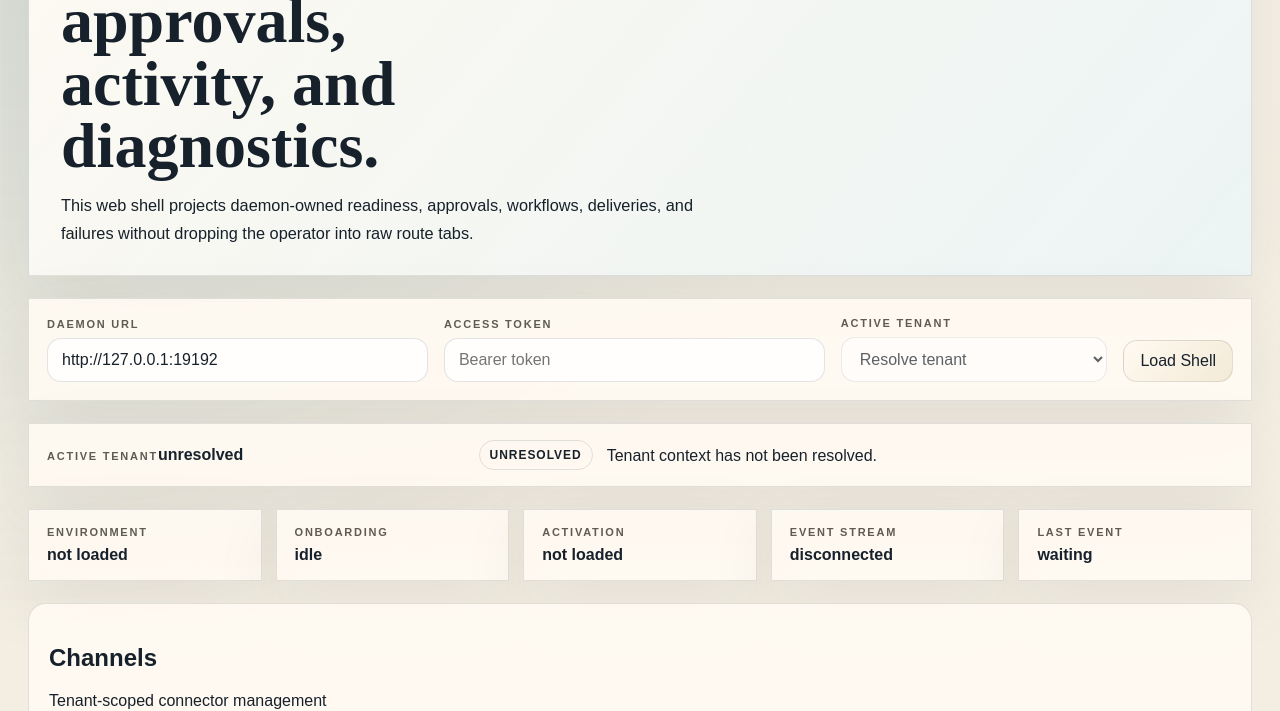
Scenario: App › creates, reviews, and suppresses product fixtures from discovered candidates
(page scrolled)
In the password field labelled "Access Token": (634, 360) [444,338,825,382], type "token"
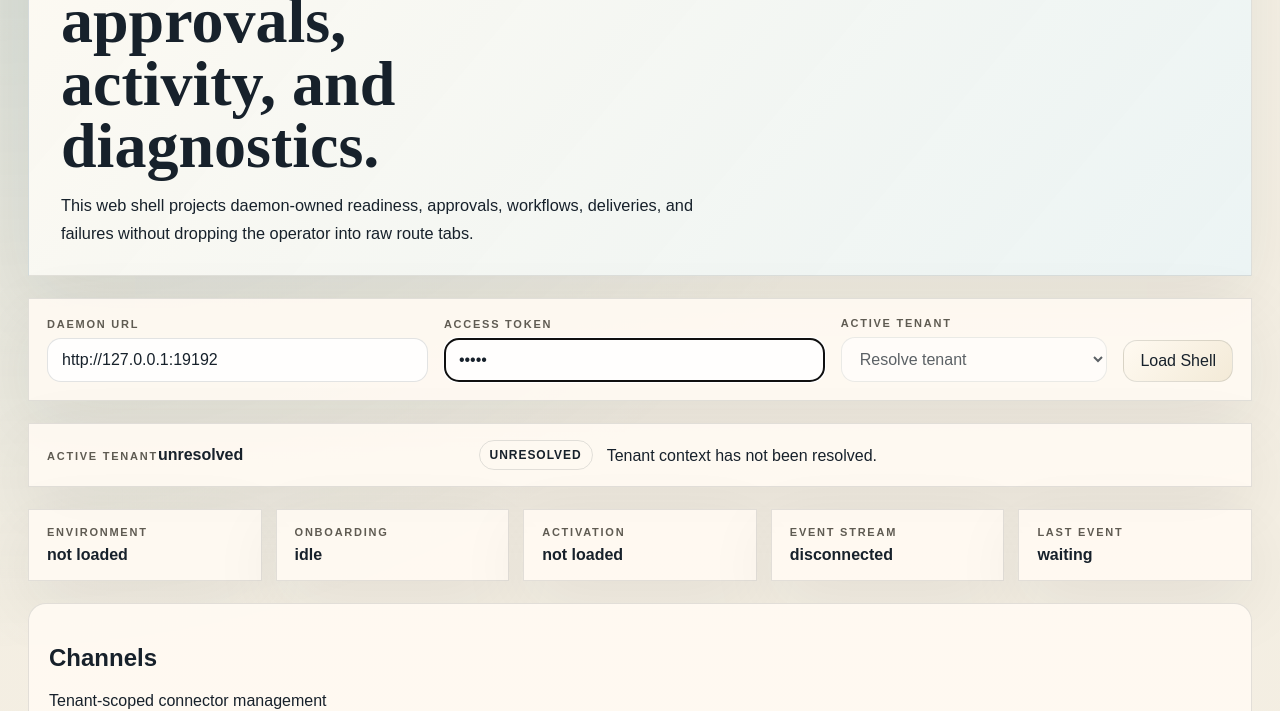
Click the button "Load Shell": (1178, 362) [1123,340,1233,382]
(page scrolled)
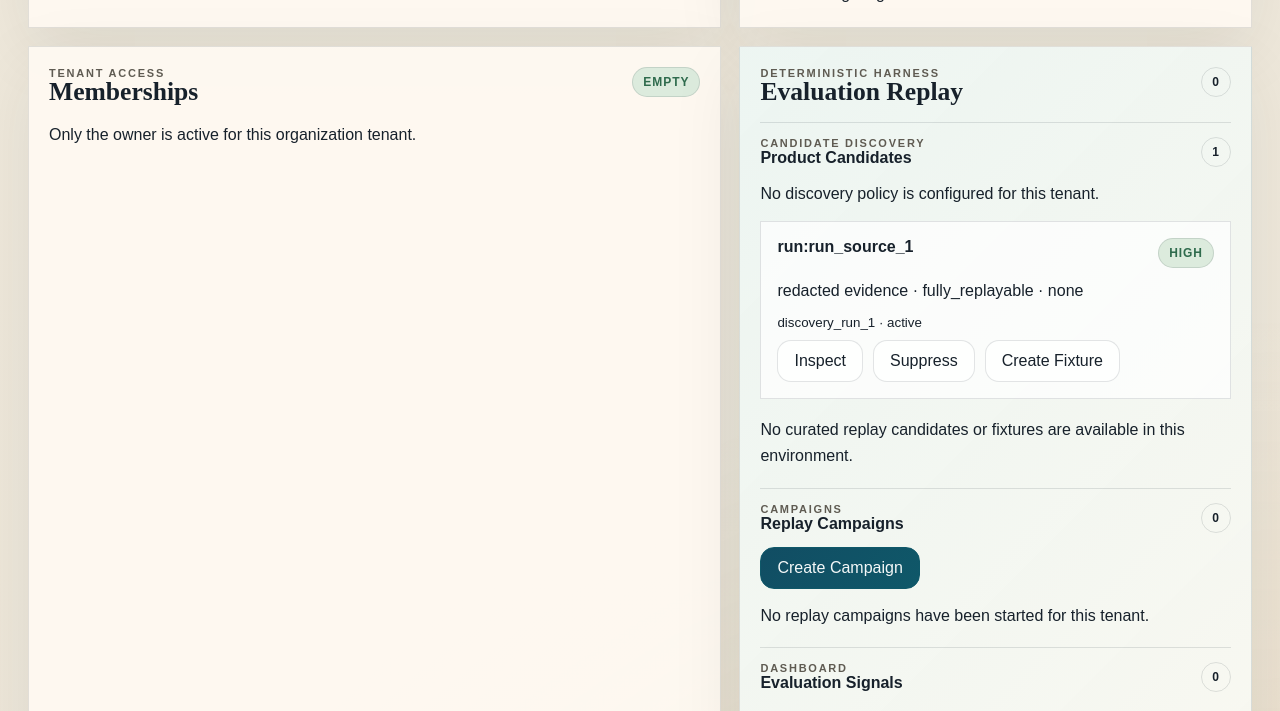
Expected: the button "Create Fixture" is shown
Click the button "Create Fixture": (1052, 361) [985,340,1120,382]
(page scrolled)
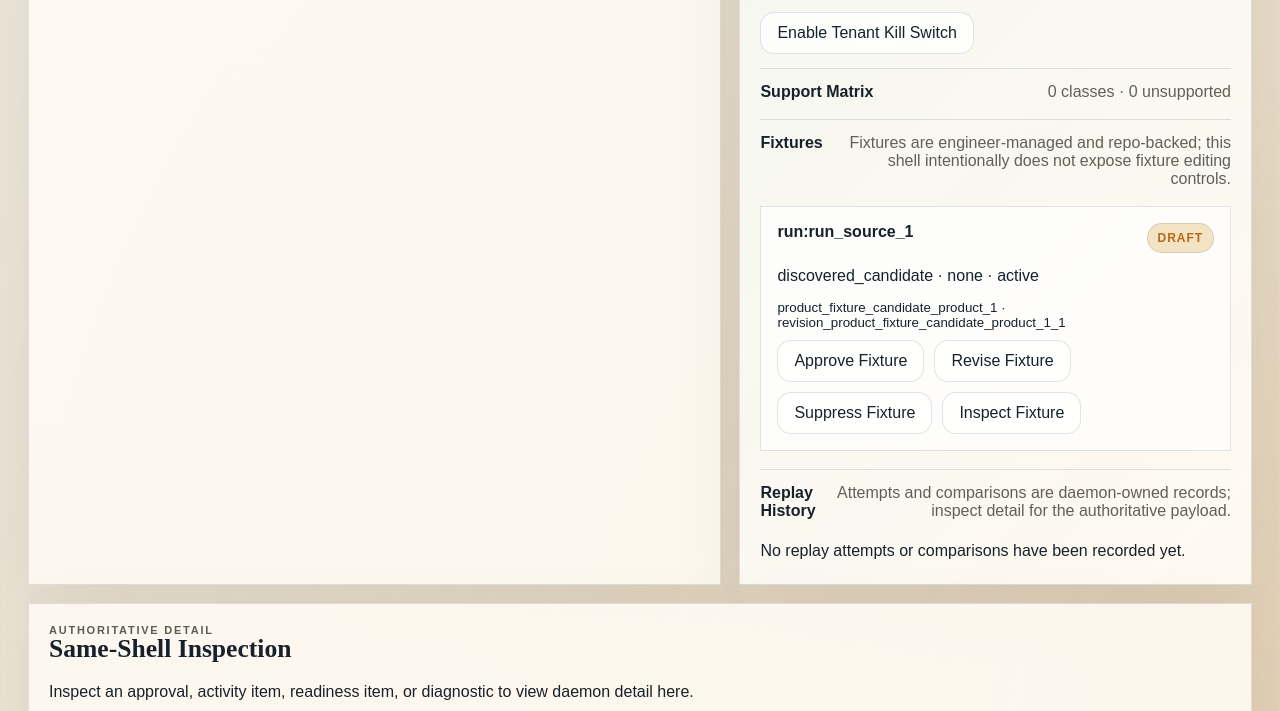
Click the button "Revise Fixture": (1003, 361) [934,340,1071,382]
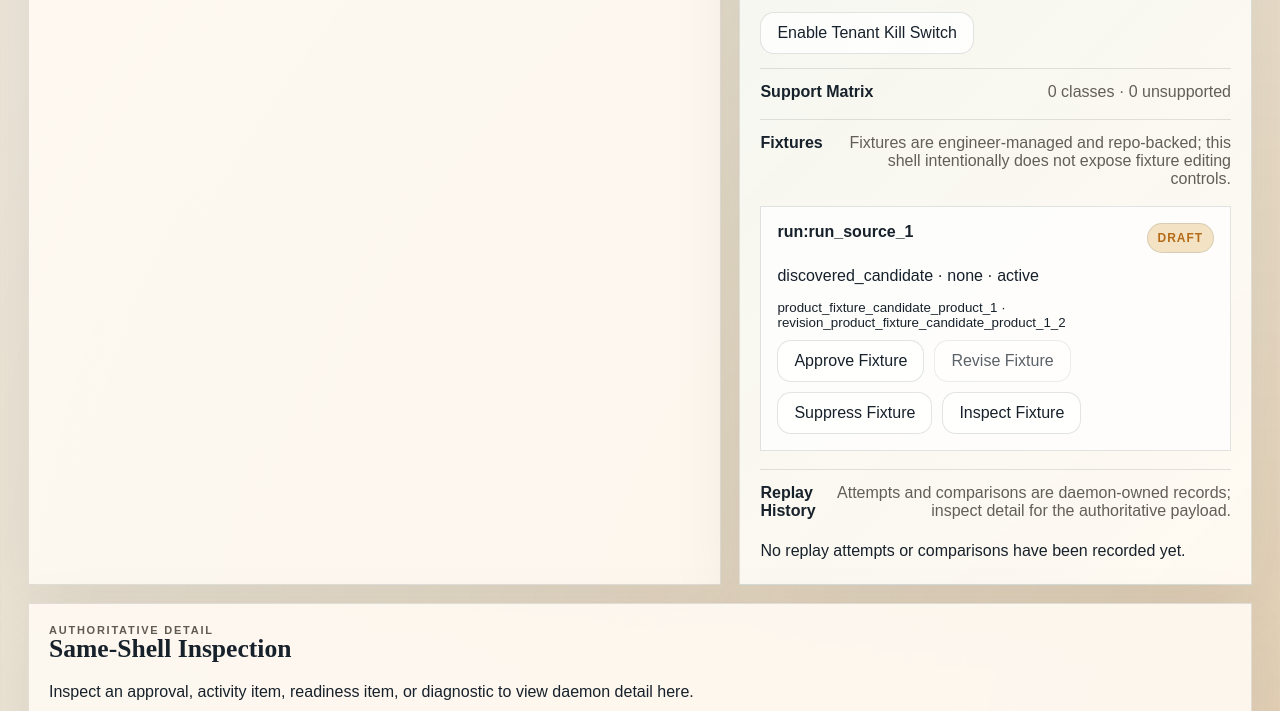
Click the button "Approve Fixture": (851, 361) [777,340,924,382]
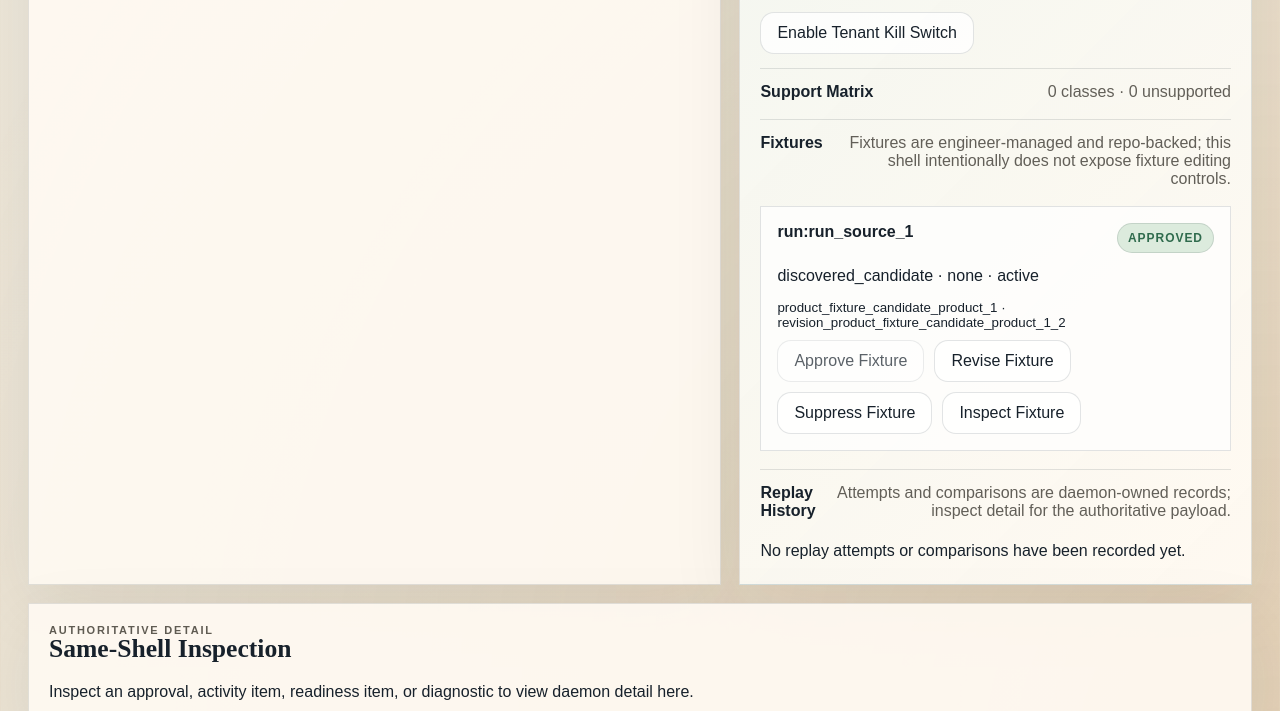
Click the button "Suppress Fixture": (855, 413) [777,392,932,434]
(page scrolled)
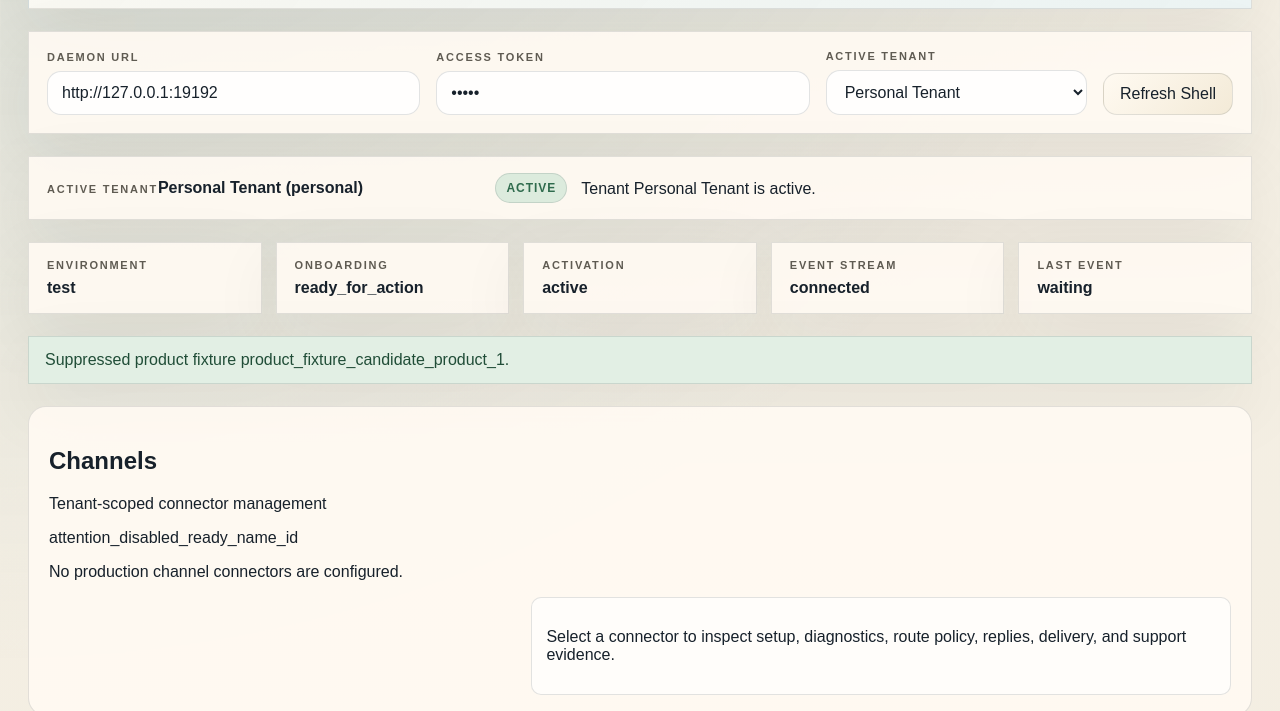
Expected: the text "Suppressed product fixture product_fixture_candidate_product_1" is shown, [45,352,509,368]
